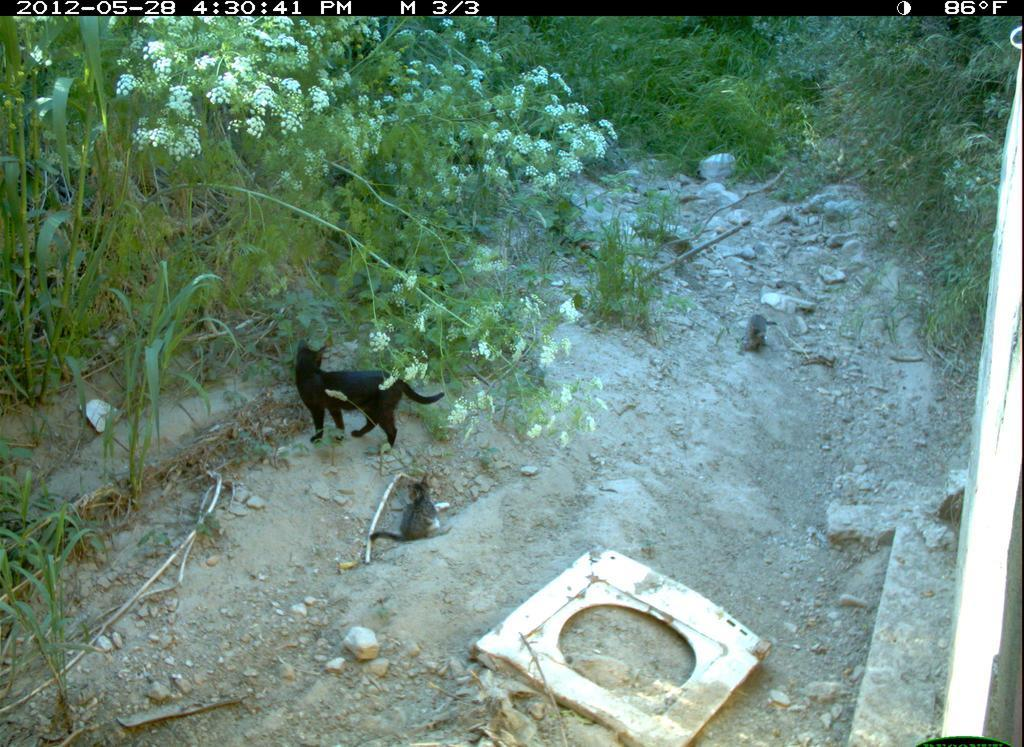cat: (290, 341, 454, 454), (368, 466, 449, 559), (737, 306, 784, 359)
